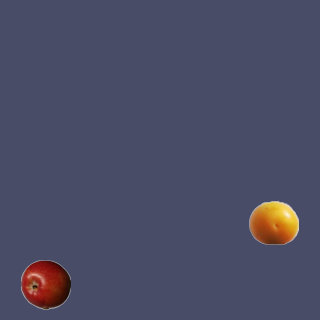Apple Braeburn: (20, 259, 70, 309)
Cherry Wax Yellow: (248, 197, 298, 247)
